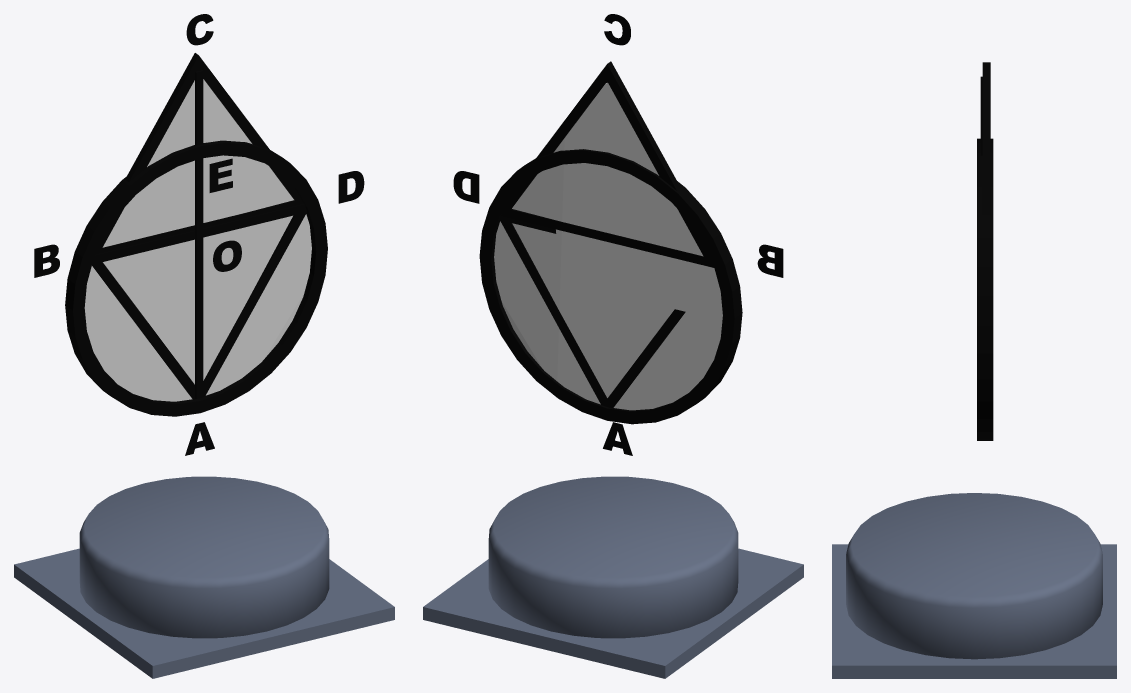
The picture shows the model from 3 angles, left to right: view 1: azimuth 30°, elevation 25°; view 2: azimuth 150°, elevation 25°; view 3: azimuth 270°, elevation 25°; orthographic projection. The views are drawn at different scales.
Visible parts, largest first — view 1: Cube.002, Cylinder, Cube, Circle, Cone.001, Cone, Cube.001, Text.006, Text.005, Text.004, Text.007; view 2: Cube.002, Cylinder, Cube, Circle, Cone, Cone.001, Text.006, Text.005; view 3: Cylinder, Cube, Circle, Cone.
Part boxes in pixels (left/top/right/bottom): Cube.002: left=84, top=79, right=311, bottom=401; Cylinder: left=79, top=476, right=329, bottom=638; Cube: left=14, top=548, right=394, bottom=678; Circle: left=65, top=140, right=327, bottom=416; Cone.001: left=92, top=204, right=306, bottom=399; Cone: left=96, top=53, right=303, bottom=254; Cube.001: left=195, top=70, right=203, bottom=398; Text.006: left=34, top=244, right=59, bottom=277; Text.005: left=338, top=171, right=364, bottom=203; Text.004: left=213, top=240, right=241, bottom=271; Text.007: left=209, top=158, right=232, bottom=192; Cube.002: left=494, top=82, right=722, bottom=410; Cylinder: left=488, top=476, right=738, bottom=638; Cube: left=423, top=548, right=803, bottom=678; Circle: left=479, top=149, right=742, bottom=424; Cone: left=501, top=61, right=714, bottom=267; Cone.001: left=500, top=216, right=685, bottom=407; Text.006: left=757, top=244, right=783, bottom=277; Text.005: left=453, top=171, right=479, bottom=203; Cylinder: left=846, top=493, right=1102, bottom=659; Cube: left=832, top=544, right=1116, bottom=678; Circle: left=977, top=138, right=993, bottom=440; Cone: left=982, top=62, right=990, bottom=214.
Size of the model in its own units: 12.47 by 21.13 by 9.09.
